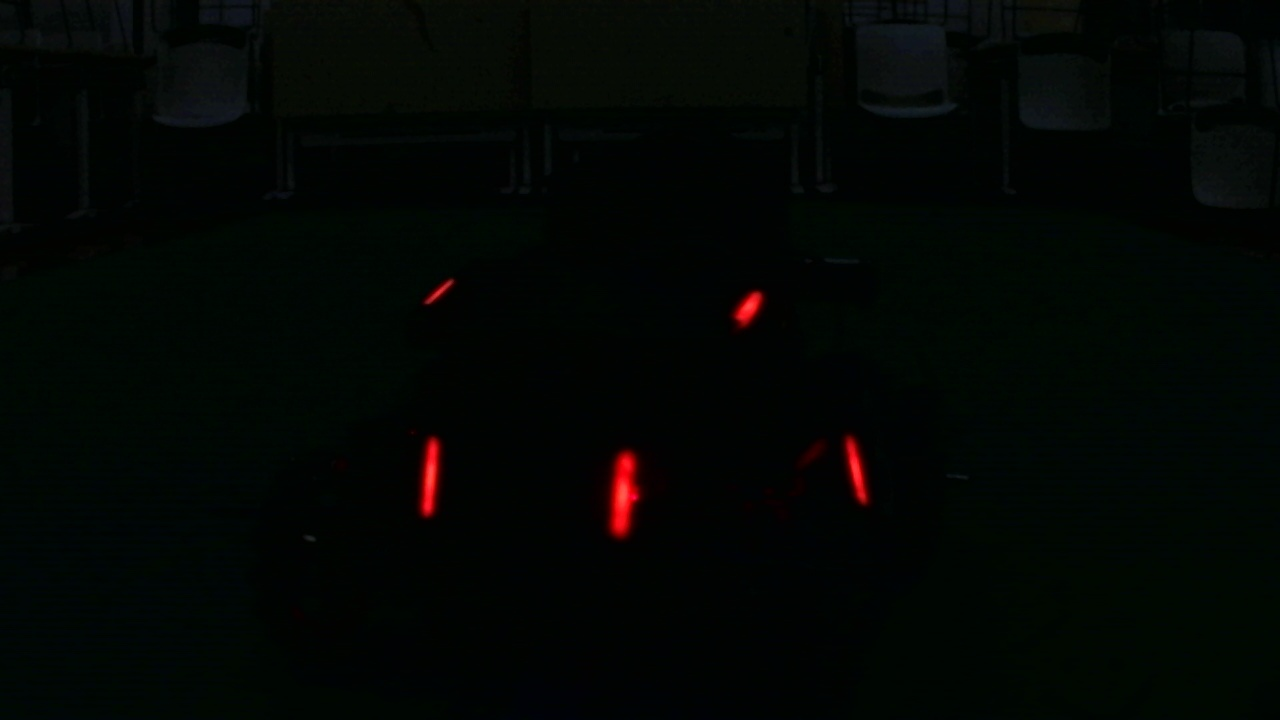lamp: (605, 451, 641, 540), (840, 432, 873, 512), (416, 437, 440, 519)
notpair1: (607, 432, 872, 540)
pair1: (418, 435, 640, 542)
